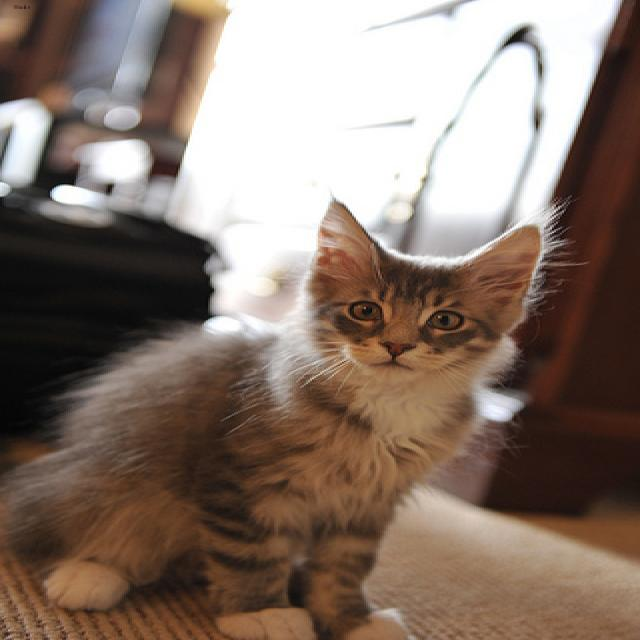cat: (310, 197, 538, 382)
